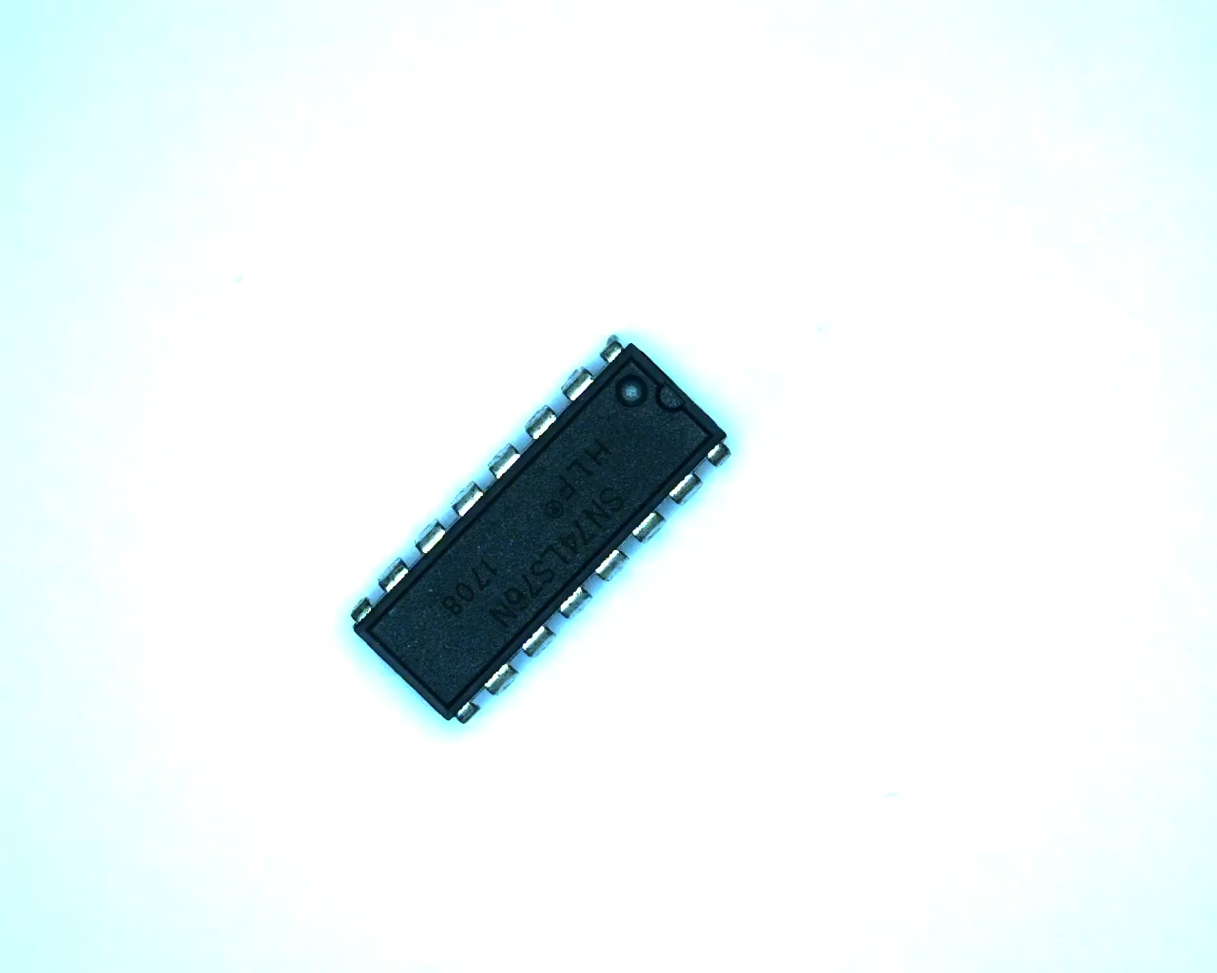IC: (336, 319, 750, 739)
notch: (649, 372, 691, 418)
